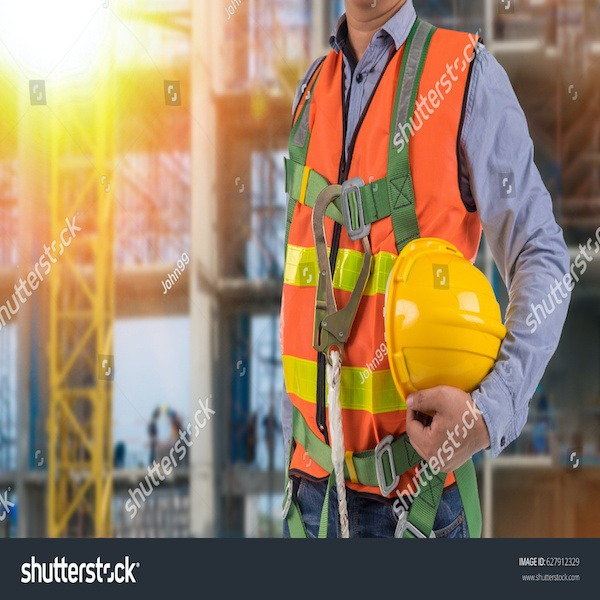helmet: (387, 241, 487, 388)
vest: (287, 41, 480, 477)
